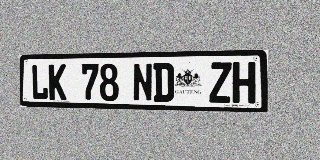7: (80, 64, 99, 101)
8: (100, 63, 119, 101)
D: (153, 63, 174, 102)
H: (232, 62, 256, 103)
K: (49, 64, 66, 100)
L: (31, 64, 48, 100)
N: (133, 63, 153, 102)
Z: (209, 62, 232, 103)
